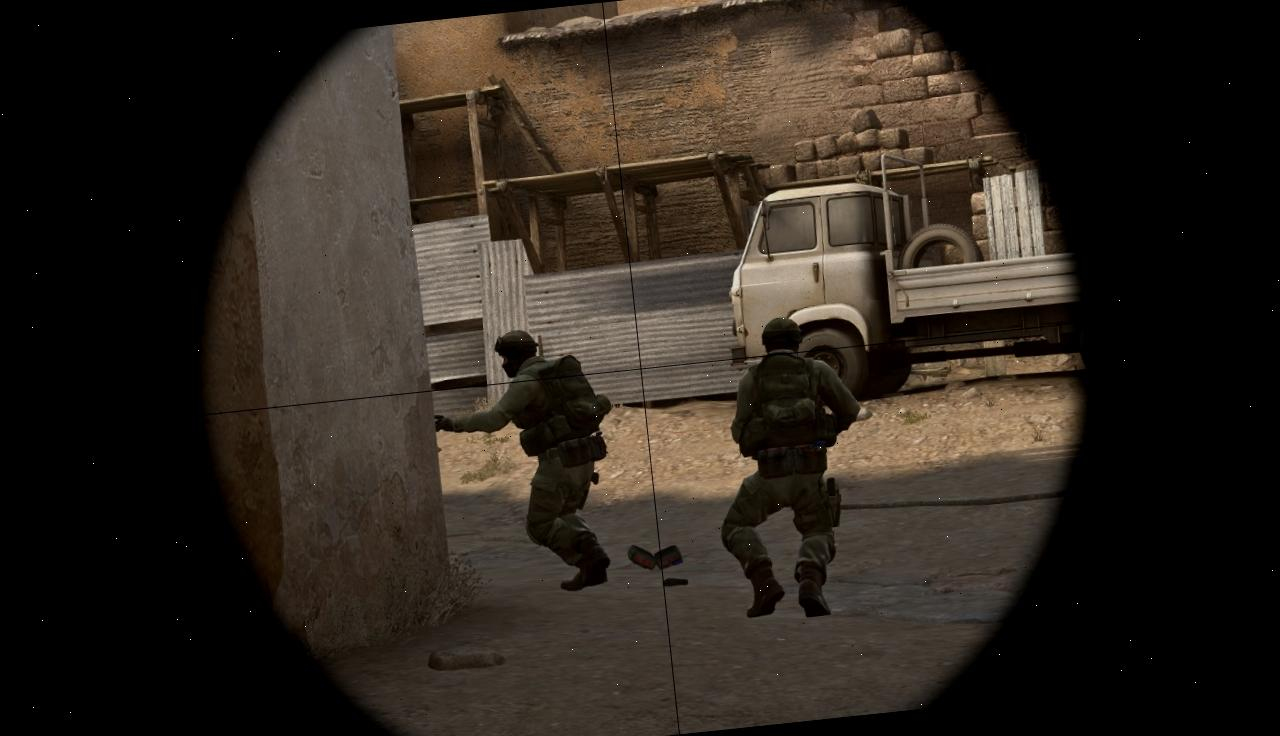ct: (699, 310, 880, 626), (485, 321, 620, 597)
cthead: (493, 328, 538, 376), (761, 316, 802, 356)
